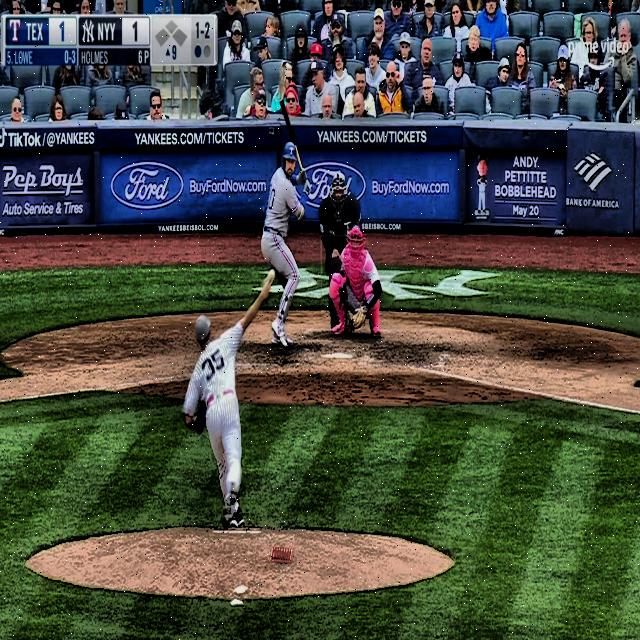baseball: (267, 268, 276, 280)
